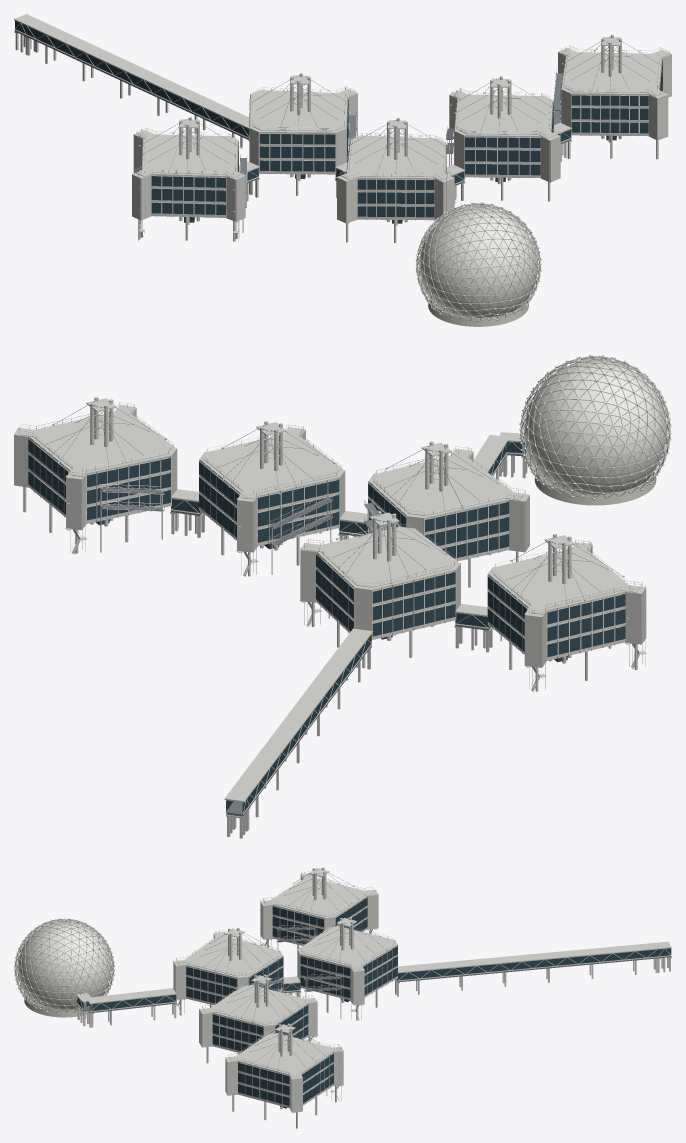
The model's file is cinesphere-near.glb.
The picture shows the model from 3 angles, top to bottom: view 1: azimuth 30°, elevation 25°; view 2: azimuth 150°, elevation 25°; view 3: azimuth 270°, elevation 25°; orthographic projection. The views are drawn at different scales.
Visible parts, largest first — view 1: cinesphere-0-white, cinesphere-0-glass, cinesphere-0-panel, cinesphere-0-frame, cinesphere-0-deck, cinesphere-0-cable, cinesphere-0-glow, cinesphere-0-concrete; view 2: cinesphere-0-white, cinesphere-0-glass, cinesphere-0-panel, cinesphere-0-frame, cinesphere-0-deck, cinesphere-0-cable, cinesphere-0-glow, cinesphere-0-concrete; view 3: cinesphere-0-white, cinesphere-0-glass, cinesphere-0-panel, cinesphere-0-frame, cinesphere-0-deck, cinesphere-0-cable, cinesphere-0-glow, cinesphere-0-concrete.
Part boxes in pixels (x1,y1,x2,y2): cinesphere-0-white: (14, 14, 671, 245); cinesphere-0-glass: (15, 20, 662, 223); cinesphere-0-panel: (420, 207, 537, 317); cinesphere-0-frame: (416, 203, 540, 321); cinesphere-0-deck: (15, 29, 571, 207); cinesphere-0-cable: (140, 41, 660, 174); cinesphere-0-glow: (415, 202, 541, 321); cinesphere-0-concrete: (428, 299, 528, 326); cinesphere-0-white: (14, 397, 646, 838); cinesphere-0-glass: (28, 439, 625, 813); cinesphere-0-panel: (524, 360, 666, 494); cinesphere-0-frame: (520, 356, 670, 498); cinesphere-0-deck: (99, 452, 523, 816); cinesphere-0-cable: (50, 402, 622, 605); cinesphere-0-glow: (519, 355, 671, 499); cinesphere-0-concrete: (534, 472, 656, 505); cinesphere-0-white: (76, 867, 671, 1128); cinesphere-0-glass: (77, 897, 671, 1108); cinesphere-0-panel: (17, 922, 111, 1009); cinesphere-0-frame: (14, 919, 114, 1012); cinesphere-0-deck: (77, 927, 671, 1013); cinesphere-0-cable: (202, 873, 385, 1070); cinesphere-0-glow: (14, 918, 114, 1011); cinesphere-0-concrete: (24, 996, 86, 1017).
Bounding box in the file's own units: 178 × 32 × 240.
